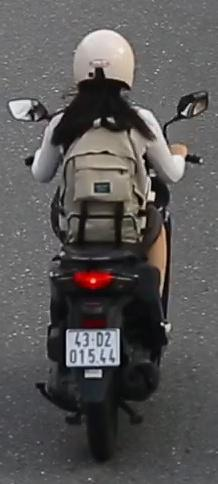LP: (59, 322, 126, 372)
helmet: (57, 21, 157, 136)
